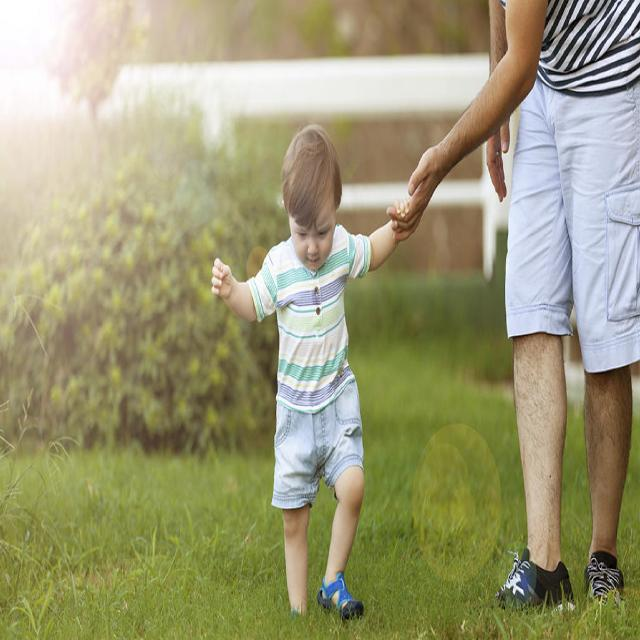Person: (388, 0, 640, 609), (212, 125, 410, 620)
